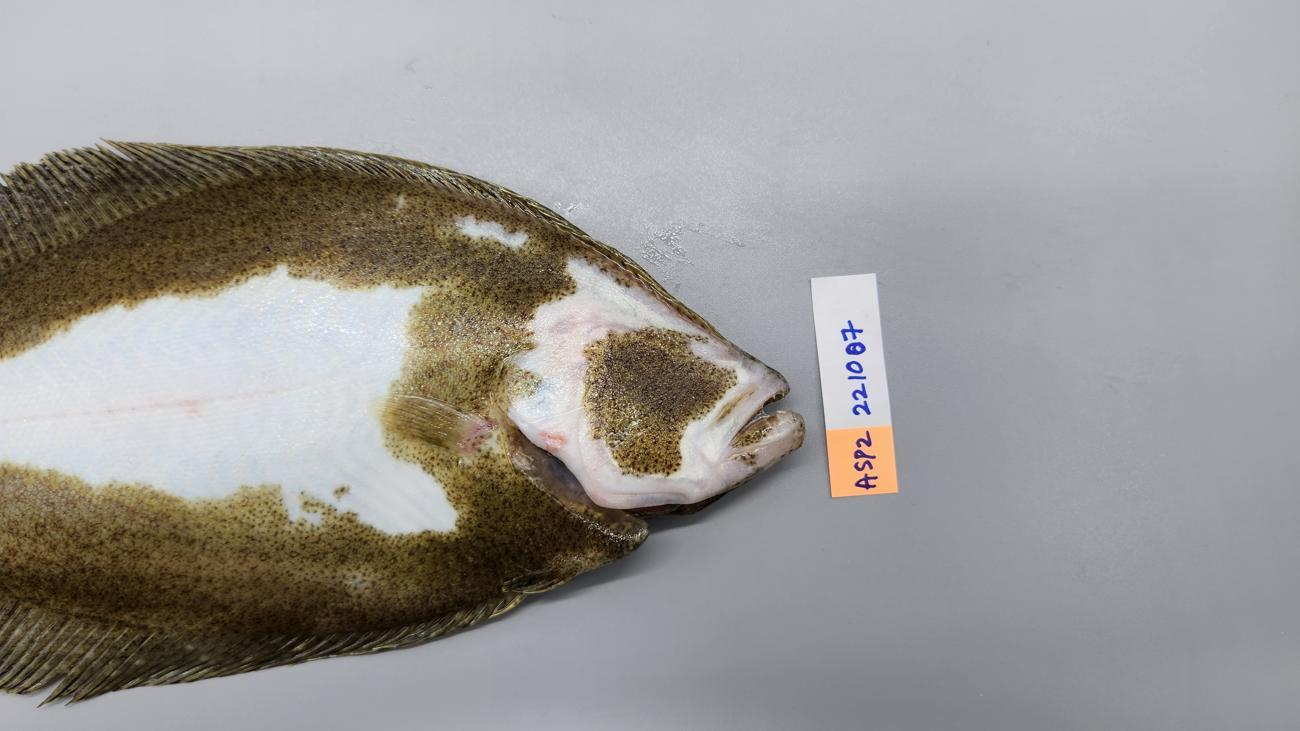SPDYH: (0, 553, 430, 634)
